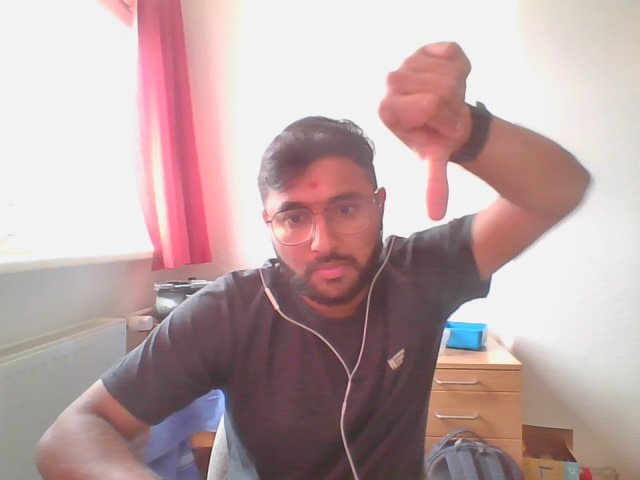ThumbsDown: (378, 43, 482, 221)
